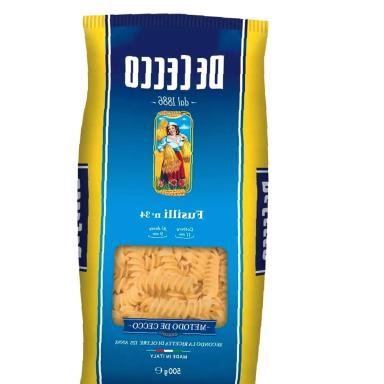pasta package: (78, 15, 268, 383)
